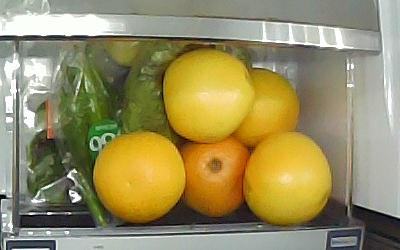grapefruit: (93, 131, 186, 224), (163, 48, 254, 142), (243, 132, 332, 227), (178, 136, 251, 218), (232, 67, 301, 151)
